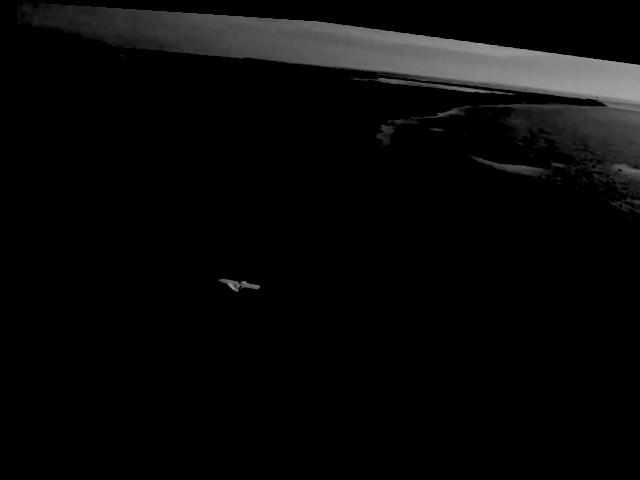hedef: (202, 263, 273, 304)
